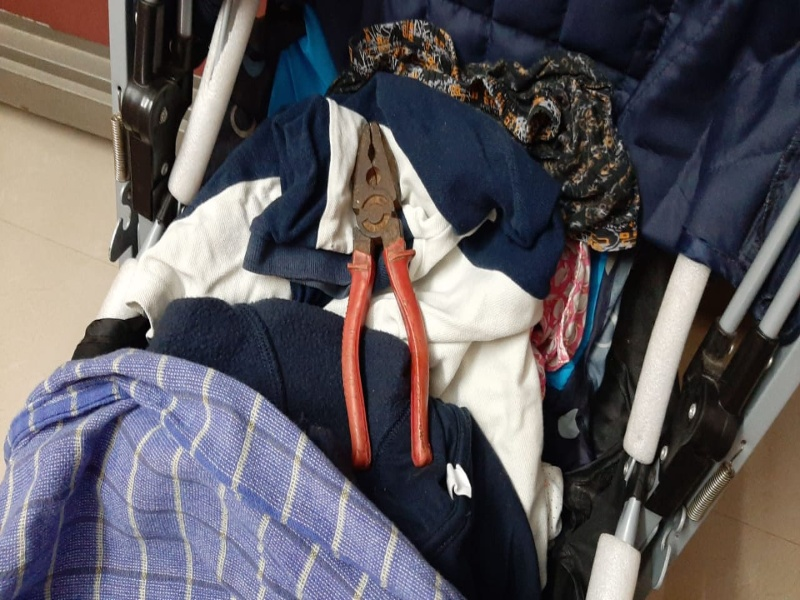cuttingplier: (337, 112, 438, 476)
